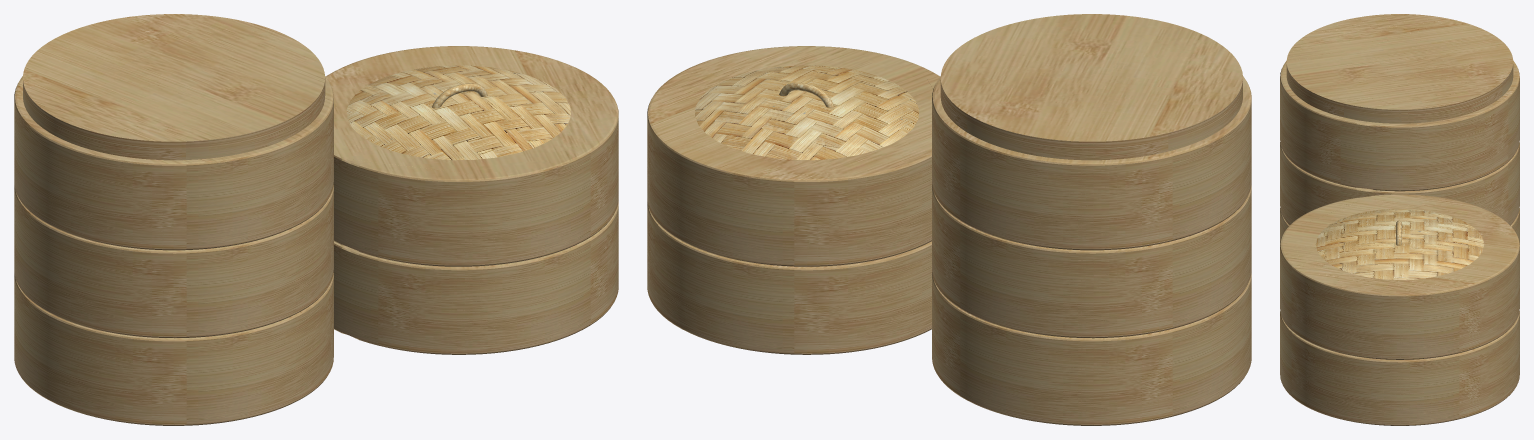
The model's file is steamer_origin.fbx.
3 renders of one model, left to right at view 1: azimuth 30°, elevation 25°; view 2: azimuth 150°, elevation 25°; view 3: azimuth 270°, elevation 25°, orthographic. The views are drawn at different scales.
Parts seen in each view (by area): view 1: 3DXY_geometry_011, 3DXY_geometry_005, 3DXY_geometry_006, 3DXY_geometry_002, 3DXY_geometry_004, 3DXY_geometry_007, 3DXY_geometry_009; view 2: 3DXY_geometry_011, 3DXY_geometry_005, 3DXY_geometry_006, 3DXY_geometry_002, 3DXY_geometry_004, 3DXY_geometry_007, 3DXY_geometry_009; view 3: 3DXY_geometry_011, 3DXY_geometry_005, 3DXY_geometry_006, 3DXY_geometry_007, 3DXY_geometry_009, 3DXY_geometry_004, 3DXY_geometry_002.
Part boxes in pixels (x1,y1,x2,y2): 3DXY_geometry_011: (326, 46, 618, 266); 3DXY_geometry_005: (23, 14, 325, 160); 3DXY_geometry_006: (14, 76, 333, 250); 3DXY_geometry_002: (14, 273, 333, 425); 3DXY_geometry_004: (14, 185, 333, 338); 3DXY_geometry_007: (333, 202, 618, 354); 3DXY_geometry_009: (346, 65, 570, 169); 3DXY_geometry_011: (647, 46, 939, 266); 3DXY_geometry_005: (940, 14, 1242, 160); 3DXY_geometry_006: (932, 76, 1251, 250); 3DXY_geometry_002: (932, 272, 1251, 425); 3DXY_geometry_004: (932, 184, 1251, 338); 3DXY_geometry_007: (647, 202, 931, 354); 3DXY_geometry_009: (695, 65, 918, 160); 3DXY_geometry_011: (1280, 194, 1519, 359); 3DXY_geometry_005: (1286, 14, 1513, 123); 3DXY_geometry_006: (1280, 61, 1519, 191); 3DXY_geometry_007: (1280, 311, 1519, 425); 3DXY_geometry_009: (1315, 209, 1484, 279); 3DXY_geometry_004: (1280, 142, 1519, 225); 3DXY_geometry_002: (1280, 208, 1519, 244).
Size of the model in its own units: 405 by 194 by 200.
Materials: 11 (11 with a texture image).
